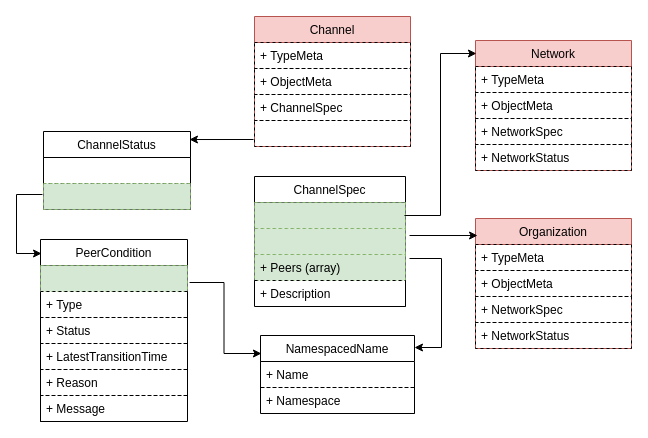
The diagram is 648 pixels wide and 438 high, and some of its shapes have lost their labels. Here are the shapes that lost their labels. From the top down, the centre of each, then its label:
At point 332,133: "+ ChannelStatus".
At point 116,170: "+ CRStatus".
At point 116,196: "+ PeerConditions (array)".
At point 330,215: "+ Network".
At point 330,241: "+ Members (array)".
At point 114,278: "+ NamespacedName".
